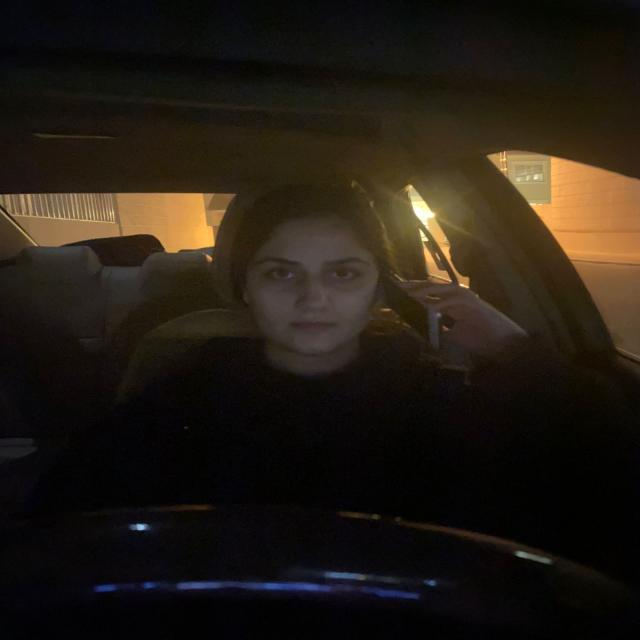mobile: (378, 266, 448, 358)
person: (224, 180, 388, 370)
